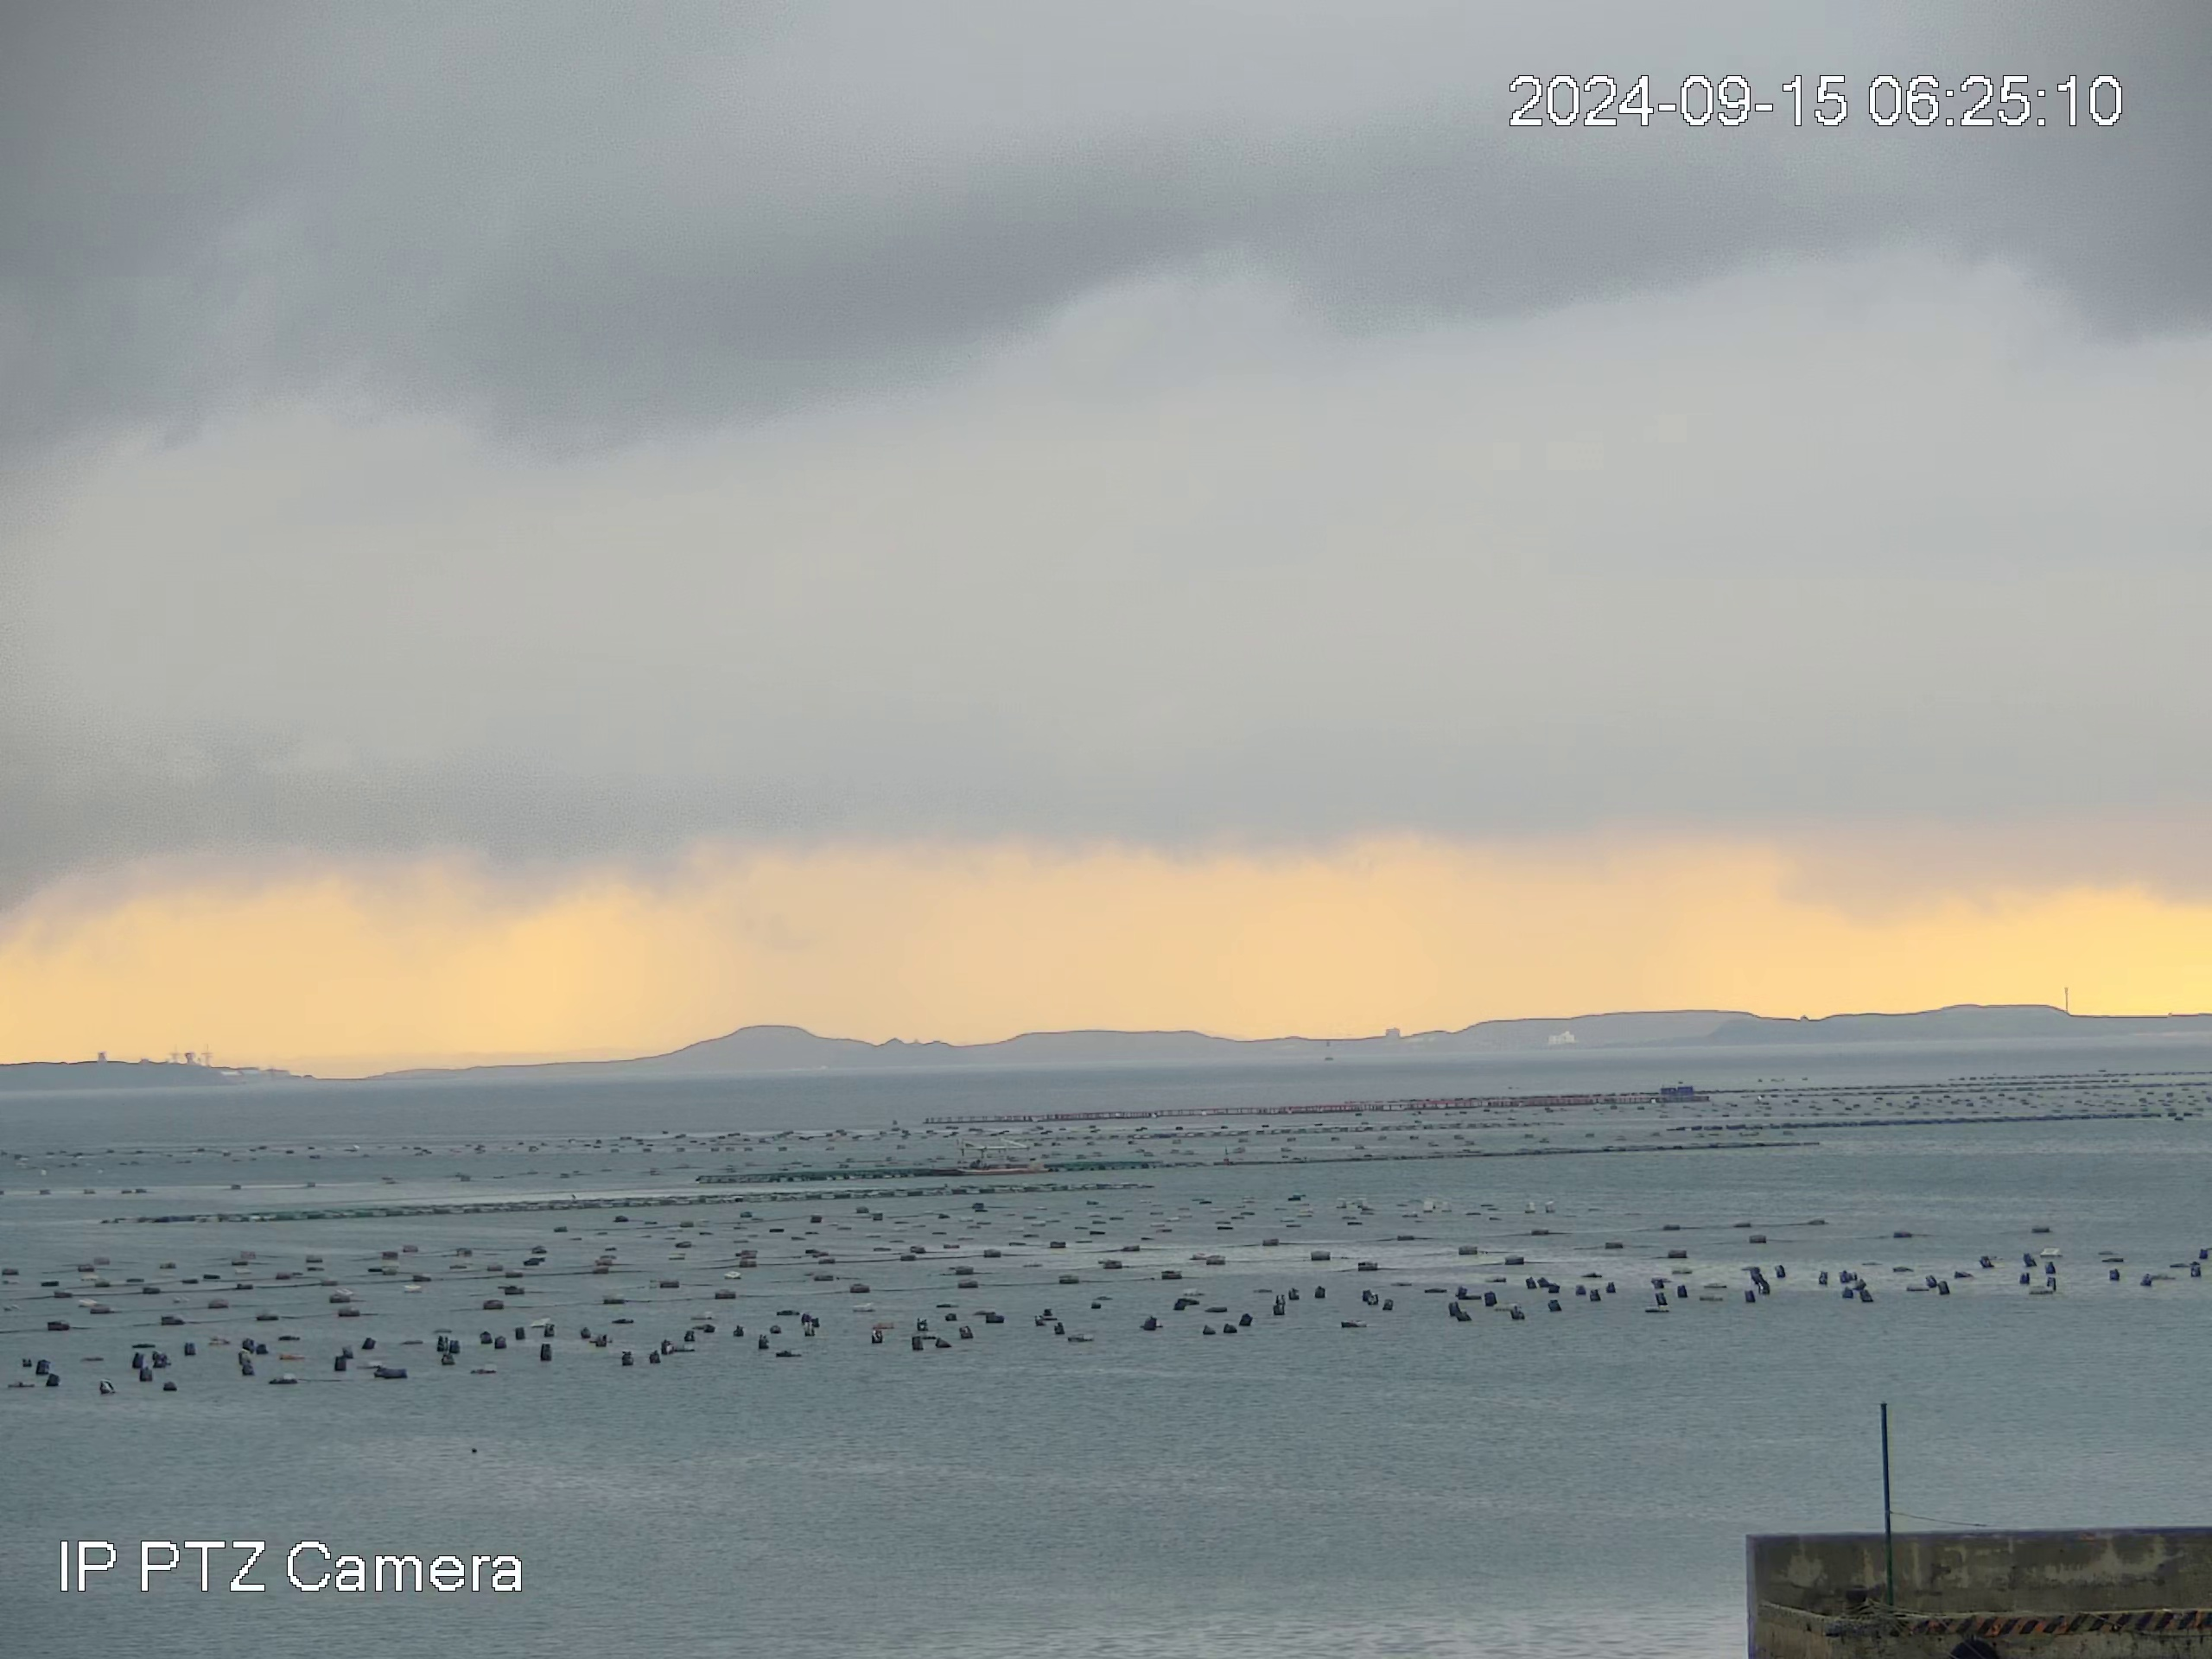boat: (951, 1136, 1052, 1176)
